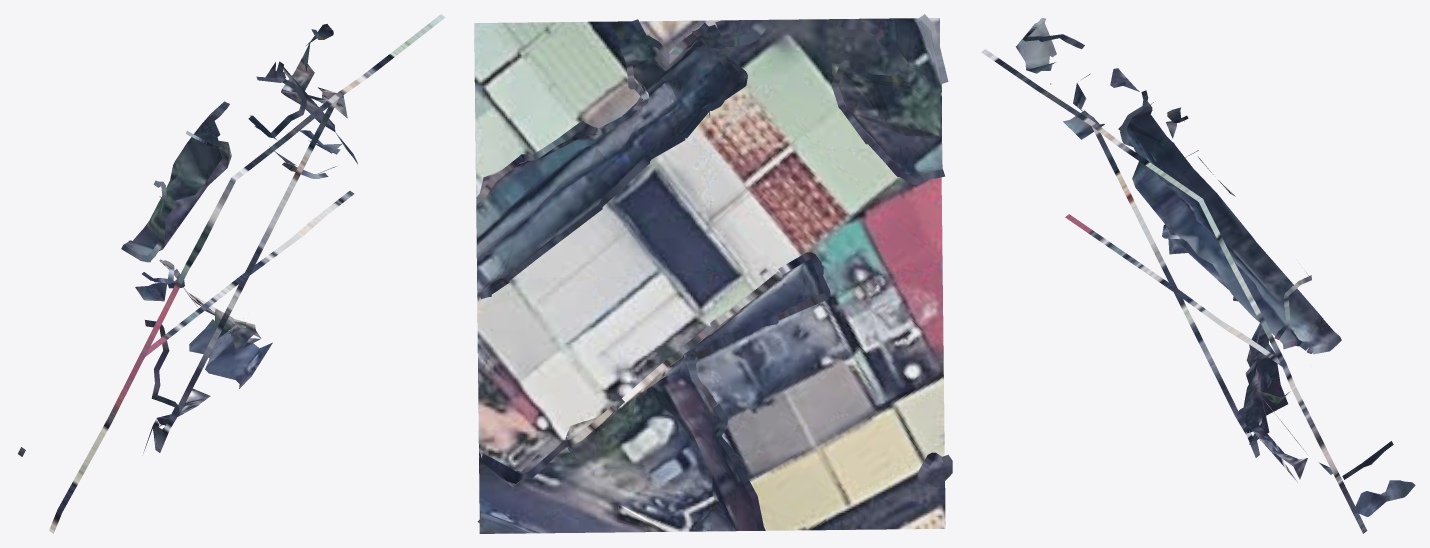
3 renders of one model, left to right at view 1: azimuth 30°, elevation 25°; view 2: azimuth 150°, elevation 25°; view 3: azimuth 270°, elevation 25°, orthographic. The views are drawn at different scales.
Bounding box in the file's own units: 40.22 × 37.3 × 36.23.
1 material, 1 textured.
